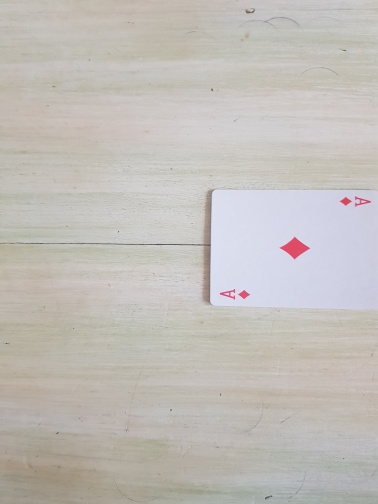ace: (208, 188, 378, 310)
